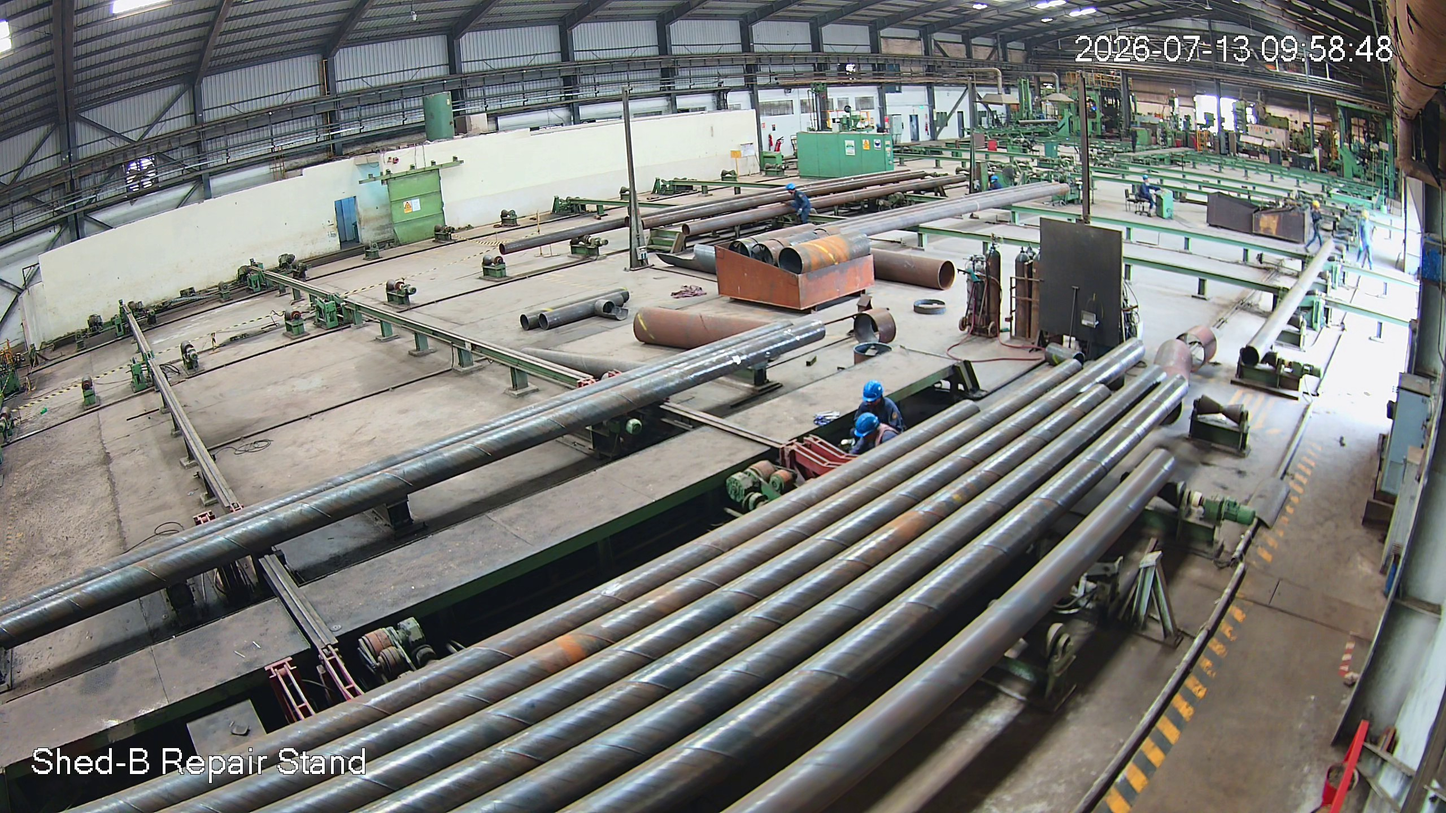Helmet: (850, 412, 884, 440), (860, 378, 889, 407)
Person: (852, 379, 904, 439), (838, 413, 903, 454)
